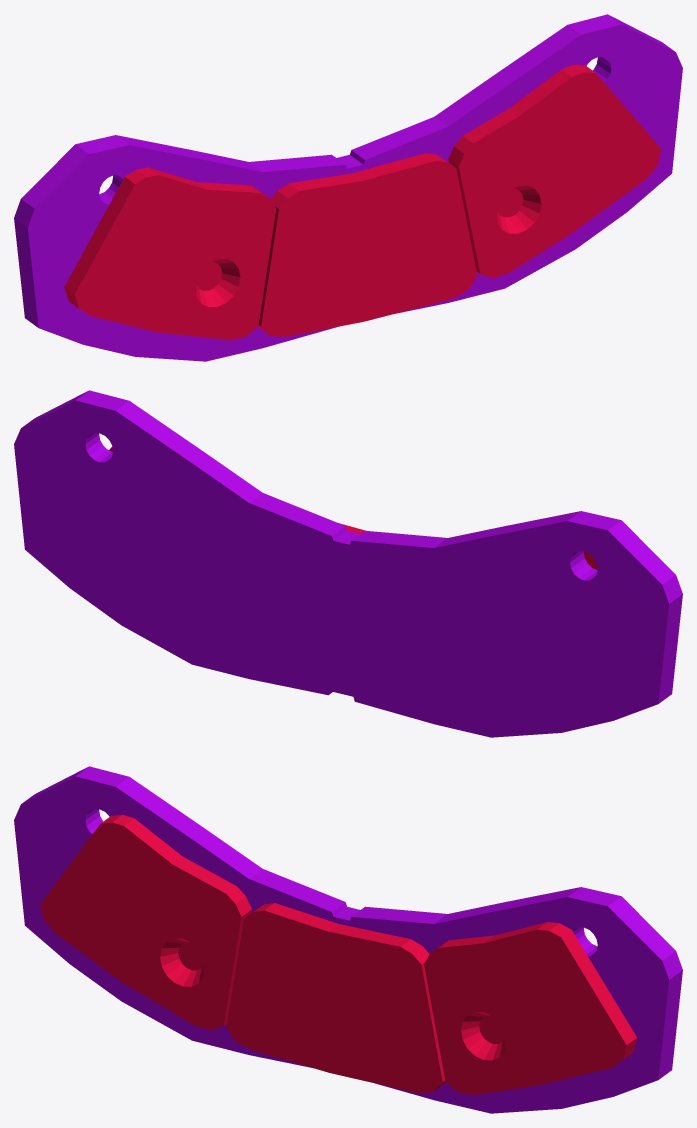
The model's file is break_pads.fbx.
3 views of the same model, one above another, from view 1: azimuth 30°, elevation 25°; view 2: azimuth 150°, elevation 25°; view 3: azimuth 330°, elevation 25° (orthographic).
Parts seen in each view (by area): view 1: Plane.001, Plane; view 2: Plane; view 3: Plane.001, Plane.
Part boxes in pixels (box(x1,y1,x2,y2)): Plane.001: box(64, 65, 661, 339); Plane: box(14, 14, 682, 361); Plane: box(14, 390, 682, 737); Plane.001: box(40, 815, 636, 1094); Plane: box(14, 766, 682, 1113).
Bounding box in the file's own units: 708 × 244 × 45.5.
